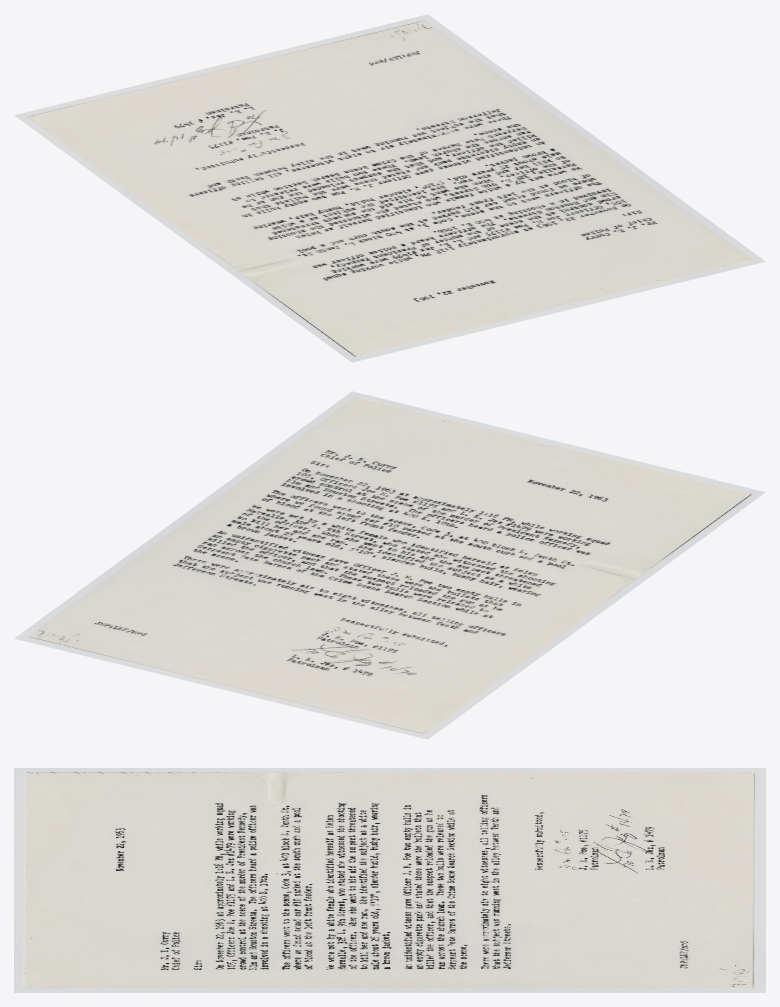
Rendered from crumple.gltf.
3 views of the same model, one above another, from view 1: azimuth 30°, elevation 25°; view 2: azimuth 150°, elevation 25°; view 3: azimuth 270°, elevation 25° (orthographic). The views are drawn at different scales.
Parts seen in each view (by area): view 1: Plane; view 2: Plane; view 3: Plane.
Boxes of the visible parts, <box> form: Plane: <box>14,14,765,362</box>; Plane: <box>14,391,765,739</box>; Plane: <box>14,768,765,992</box>.
Size of the model in its own units: 0.803 by 0 by 1.14.
Materials: 1 (1 with a texture image).
